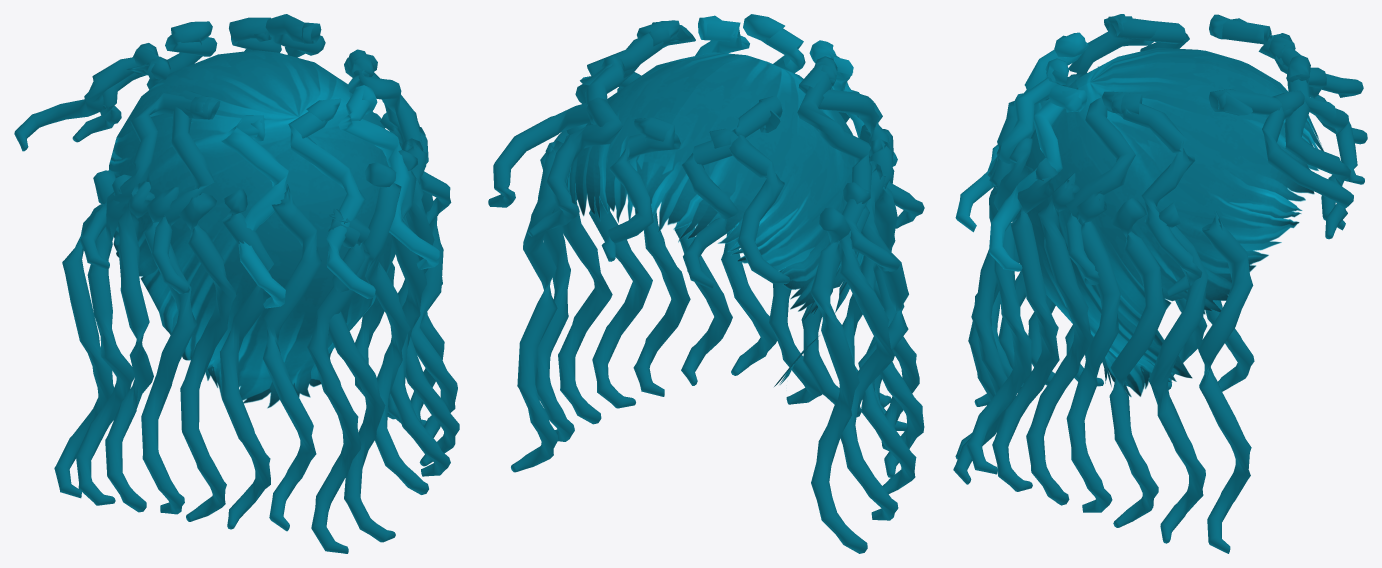
The model's file is hair.glb.
3 views of the same model, side by side, from view 1: azimuth 30°, elevation 25°; view 2: azimuth 150°, elevation 25°; view 3: azimuth 270°, elevation 25° (orthographic). The views are drawn at different scales.
Parts seen in each view (by area): view 1: male-medium-curls-v1; view 2: male-medium-curls-v1; view 3: male-medium-curls-v1.
Part boxes in pixels (bbox=[...]): male-medium-curls-v1: bbox=[14, 14, 459, 553]; male-medium-curls-v1: bbox=[488, 14, 924, 553]; male-medium-curls-v1: bbox=[953, 14, 1367, 553].
Size of the model in its own units: 0.2757 by 0.3165 by 0.2839.
1 material, 1 textured.
